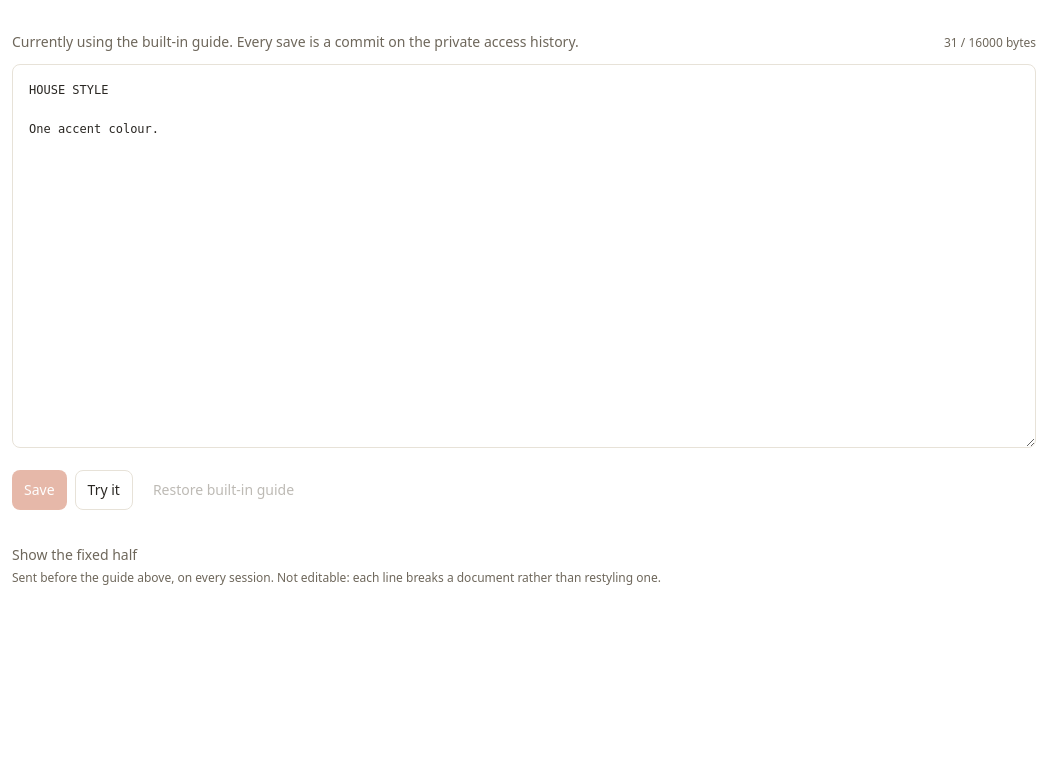
Test case: DesignGuideAdmin › reports a failed preview in the panel rather than leaving it spinning
Click the button "Try it" at (104, 490), box x1=75 y1=470 x2=133 y2=510
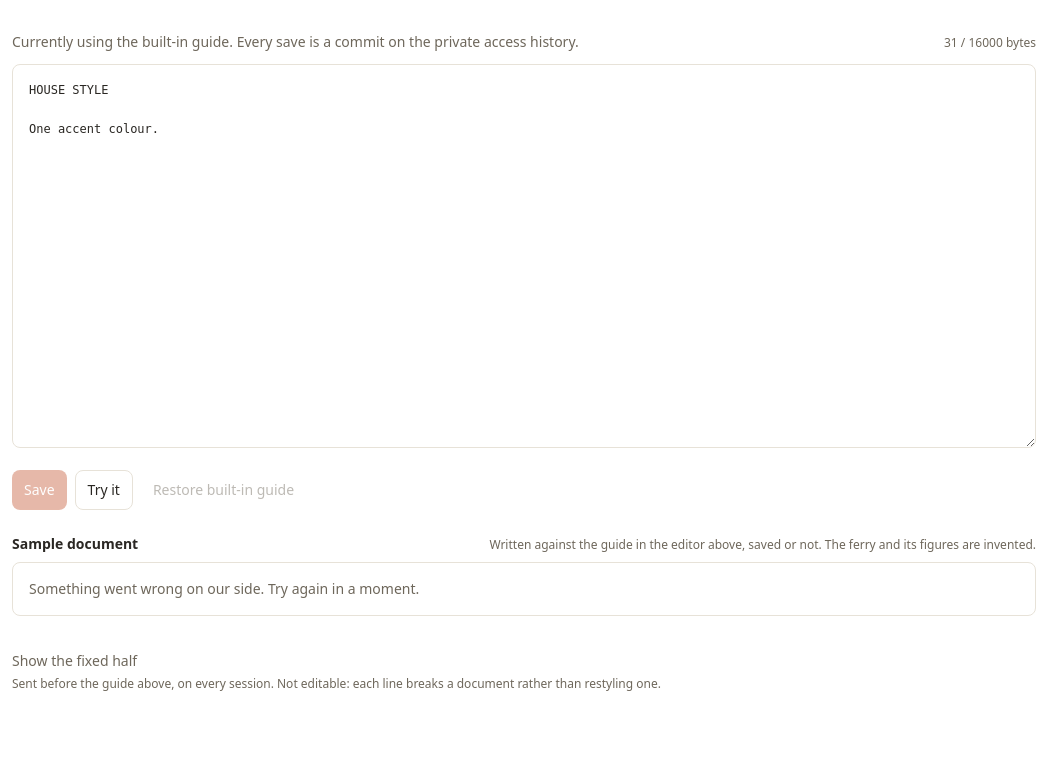
Expected: the message "Something went wrong on our side. Try again in a moment." is shown, x1=12 y1=562 x2=1036 y2=616
